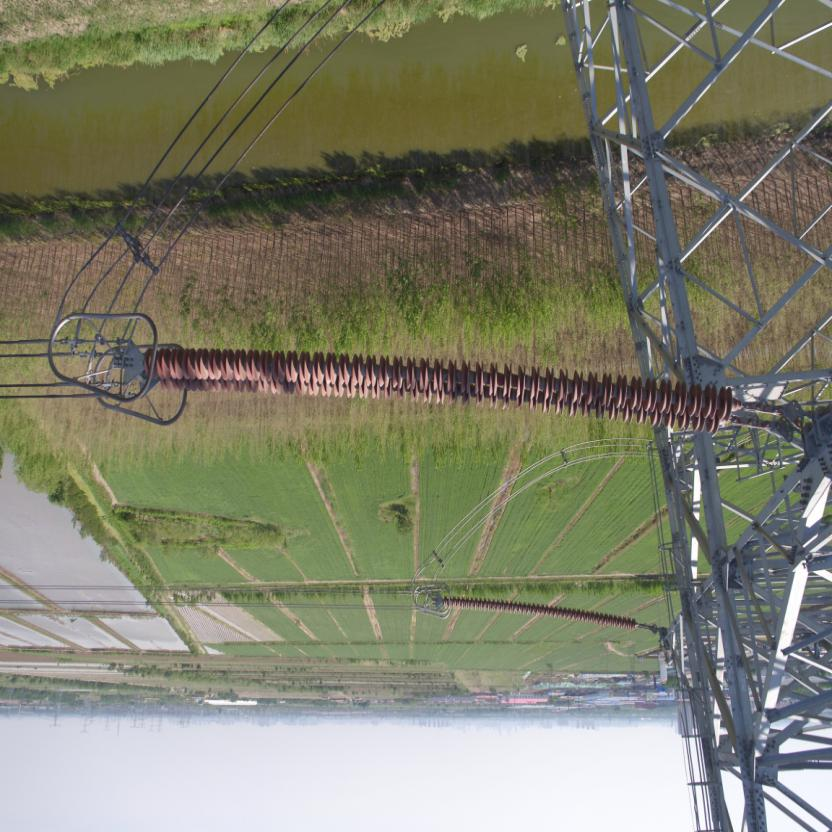insulator: (136, 340, 760, 442), (439, 594, 645, 638)
